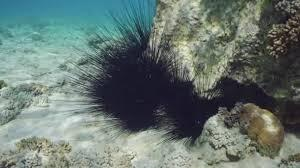urchin: (55, 52, 151, 117), (99, 21, 152, 89), (104, 86, 171, 136), (153, 71, 201, 118), (162, 110, 211, 141)
